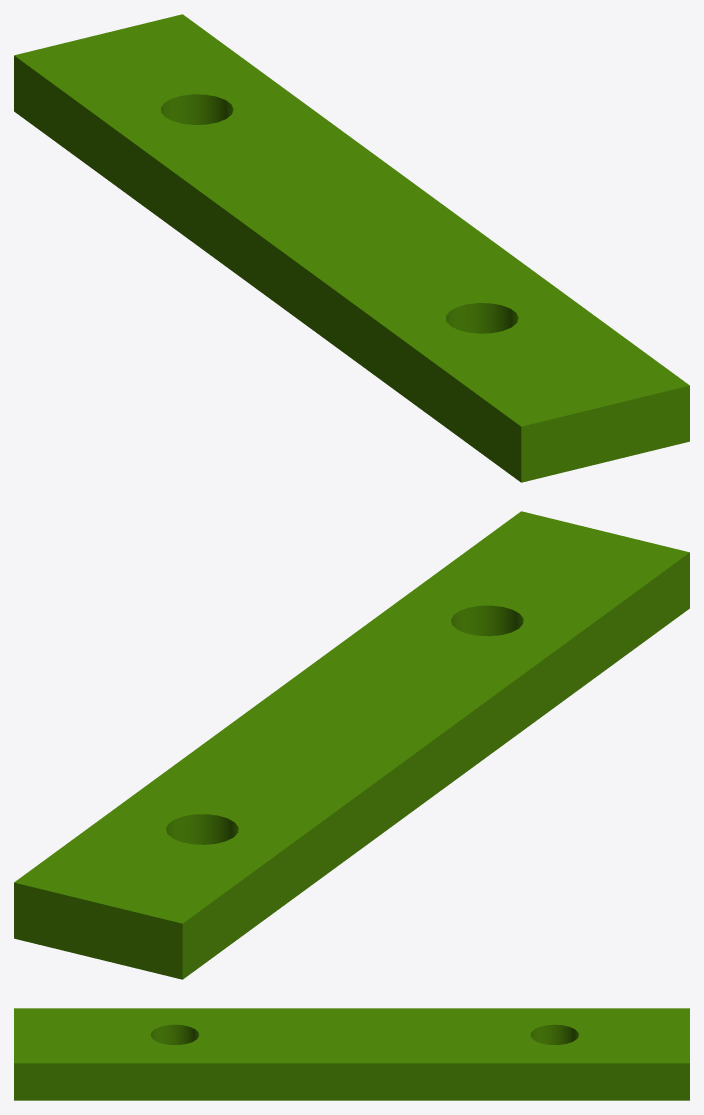
3 renders of one model, top to bottom at view 1: azimuth 30°, elevation 25°; view 2: azimuth 150°, elevation 25°; view 3: azimuth 270°, elevation 25°, orthographic. The views are drawn at different scales.
Parts seen in each view (by area): view 1: fa; view 2: fa; view 3: fa.
Part boxes in pixels (x1,y1,x2,y2): fa: [14, 14, 689, 482]; fa: [14, 511, 689, 979]; fa: [14, 1008, 689, 1100].
Bounding box in the file's own units: 0.0945 × 0.03 × 0.4921.
